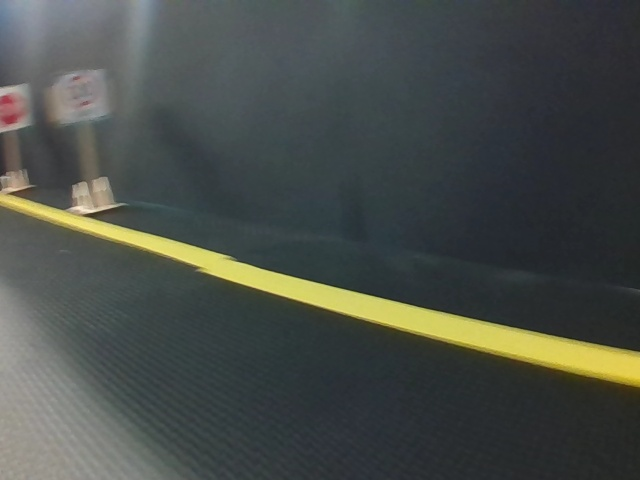30: (53, 70, 108, 120)
stop: (1, 85, 32, 132)
